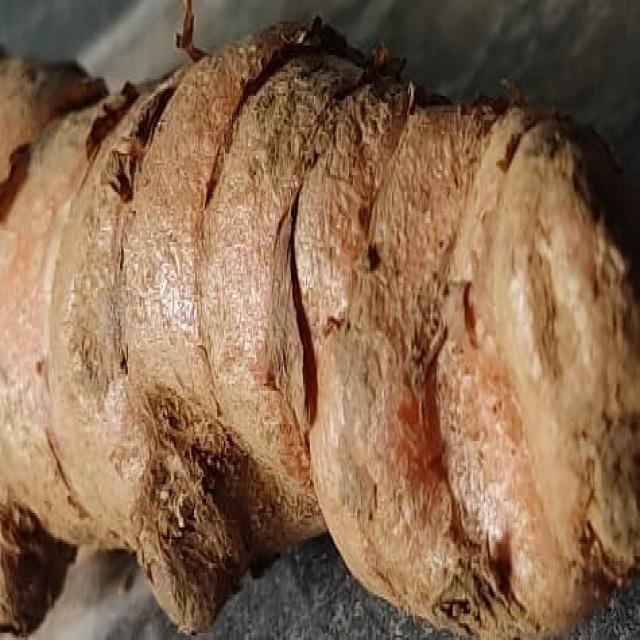ginger: (10, 37, 636, 609)
